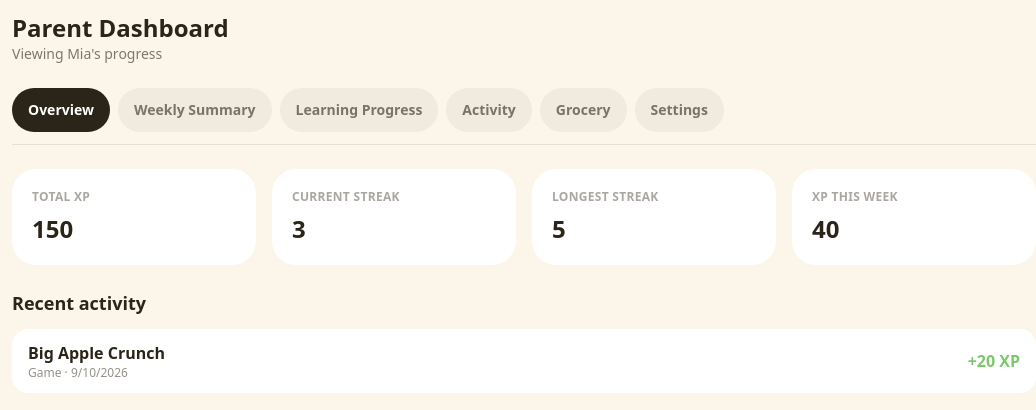
Test case: Parent Dashboard (full) › switches tabs and fetches that tab's own data on demand
The image size is (1036, 410).
Expected: the text "Viewing Mia's progress" is shown, [12,44,162,63]
Click the button "Weekly Summary" at [195, 110], box [118,88,272,132]
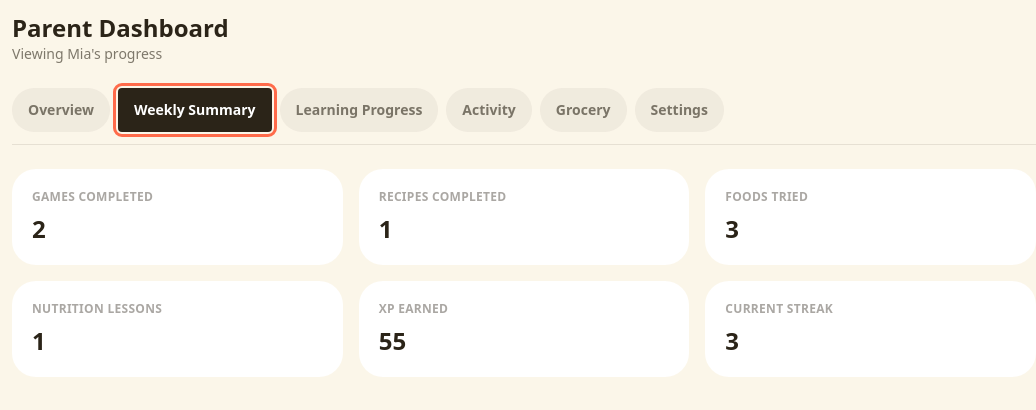
Expected: the text "55" is shown, [379,324,406,357]
